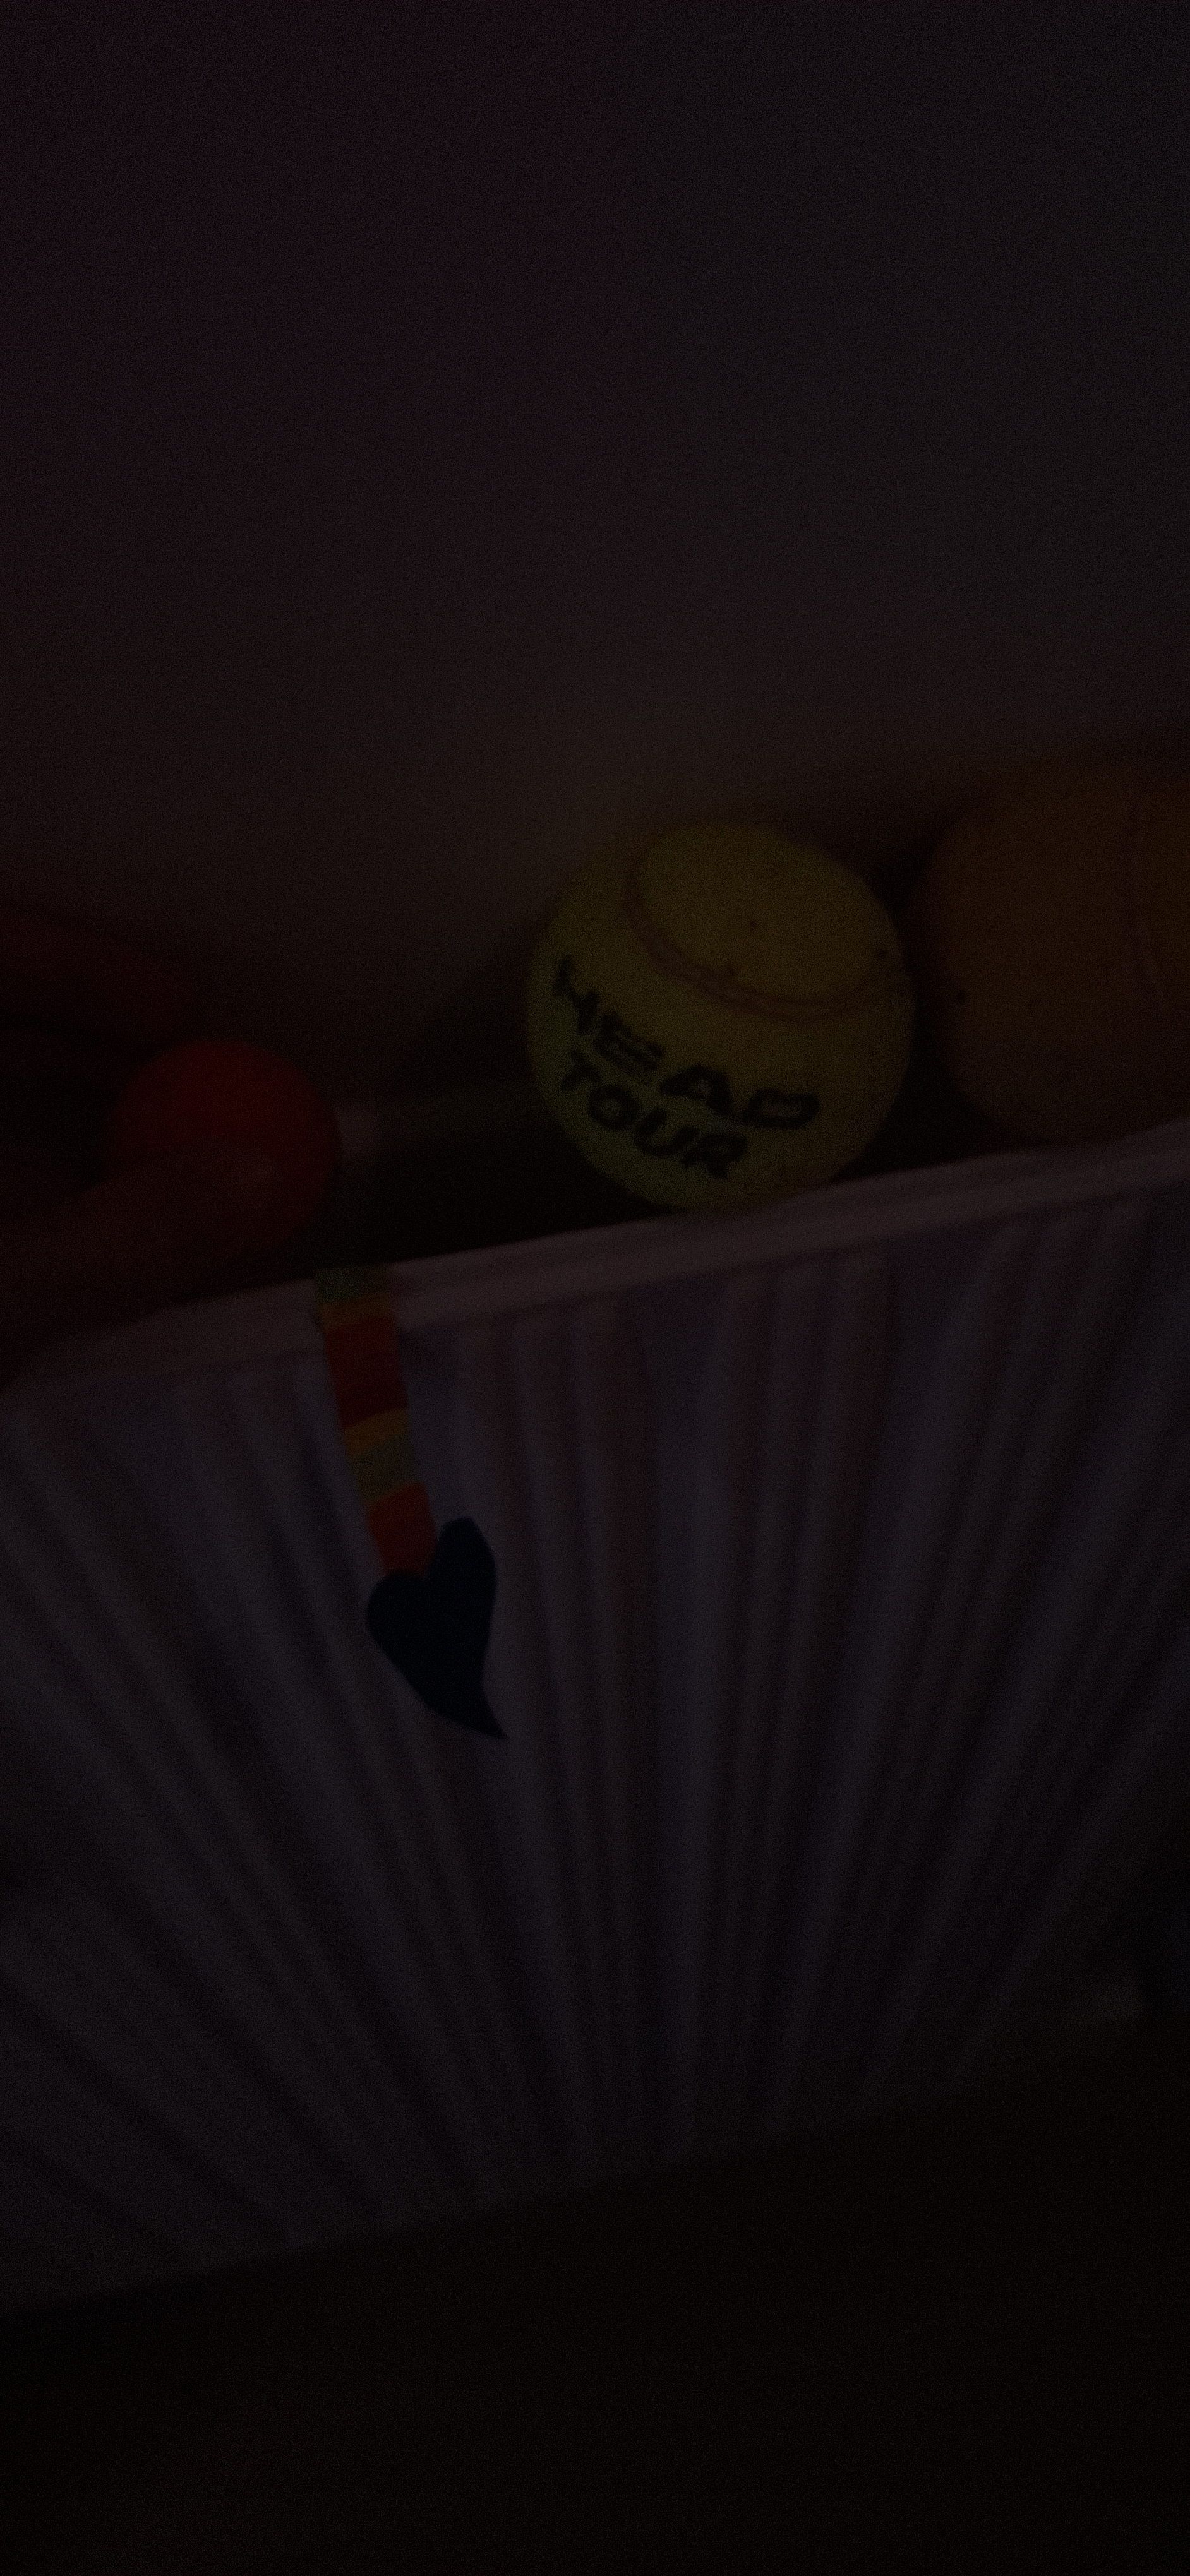ball: (482, 1851, 582, 2366)
